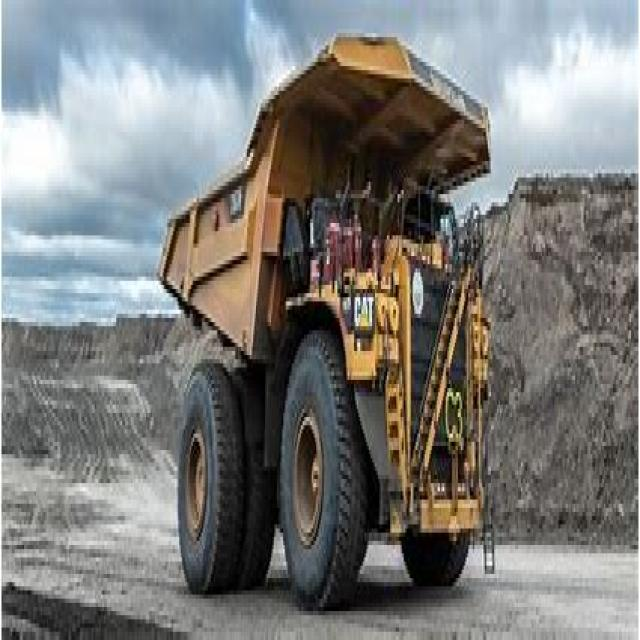dump_truck: (155, 25, 499, 603)
